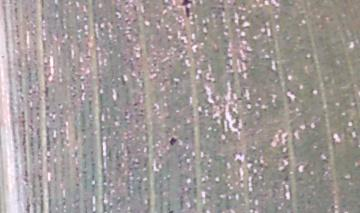tarspot: (180, 1, 193, 20), (167, 135, 179, 148), (166, 207, 177, 213)
